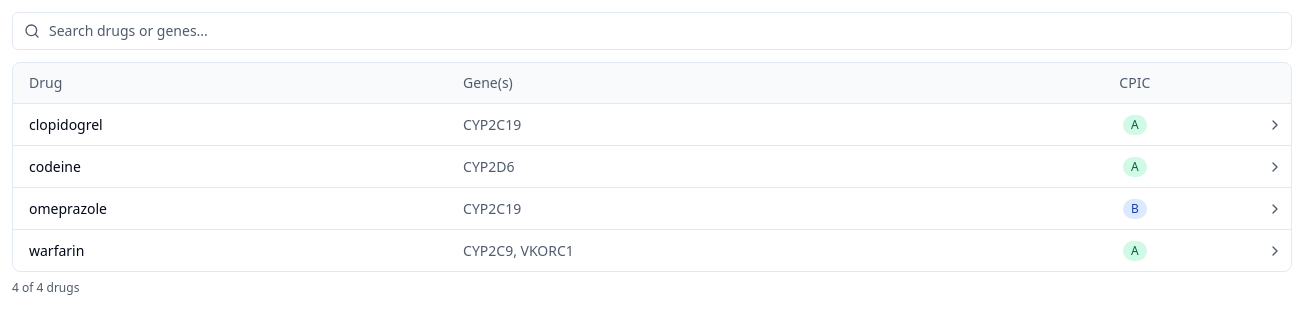
Test: DrugTable › filters drugs by gene name
The width and height of the screenshot is (1304, 312).
Type "CYP2D6" into the field labelled "Search drugs or genes".
click(652, 31); type("CYP2D6")  # box [12,12,1292,50]
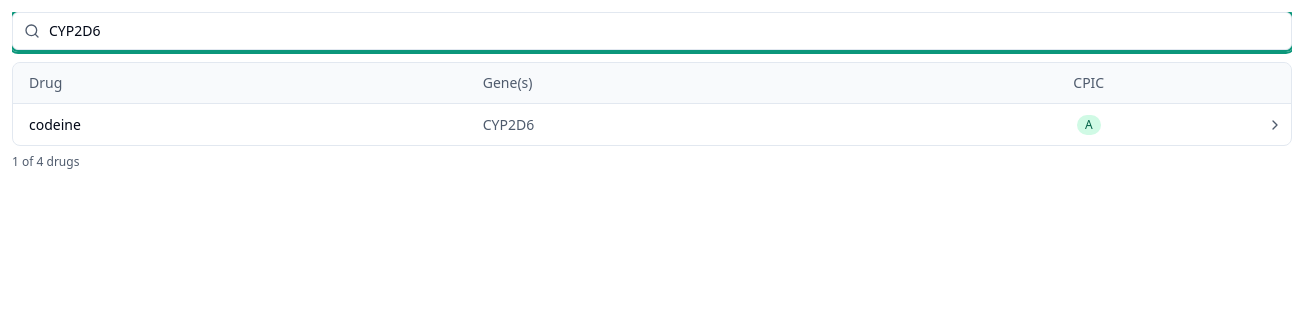
Expected: the text "codeine" is shown, [13,104,467,145]
Now the text "clopidogrel" is gone
